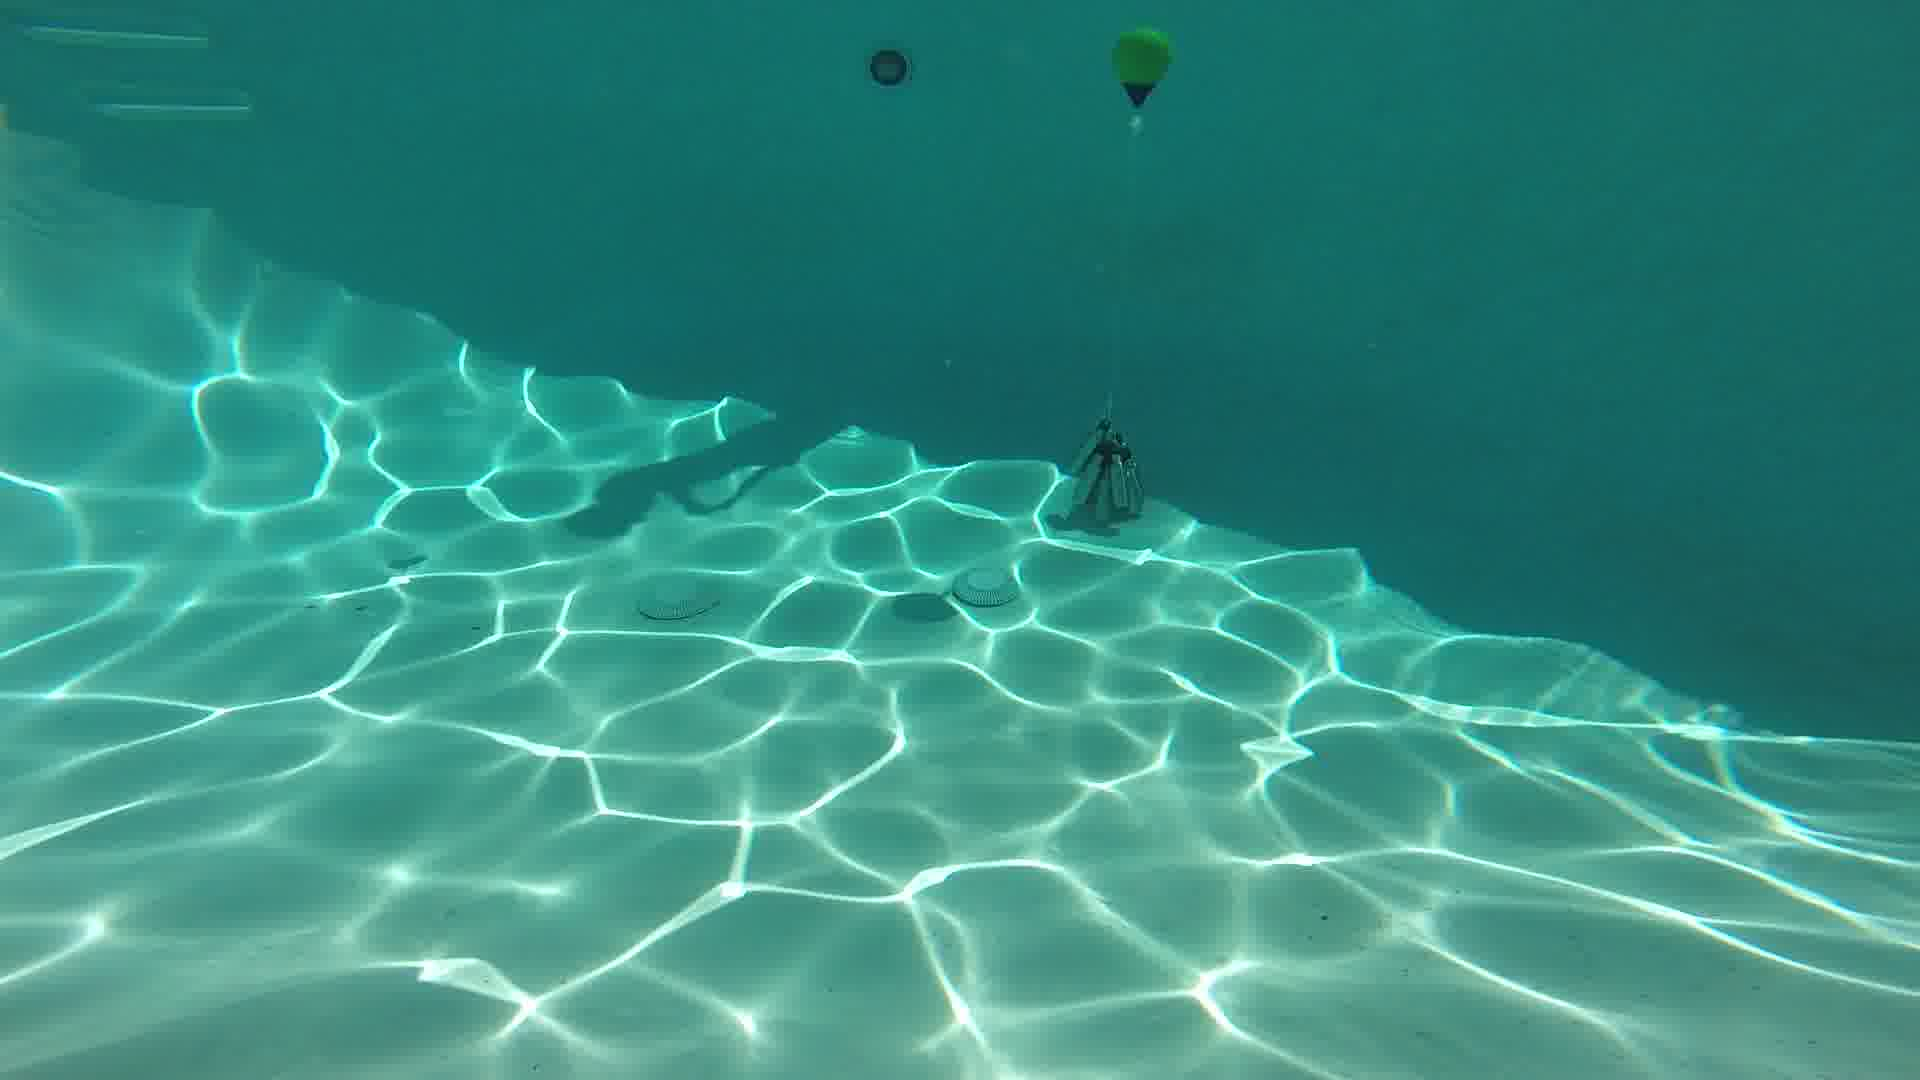yellow_buoy: (1114, 30, 1172, 105)
